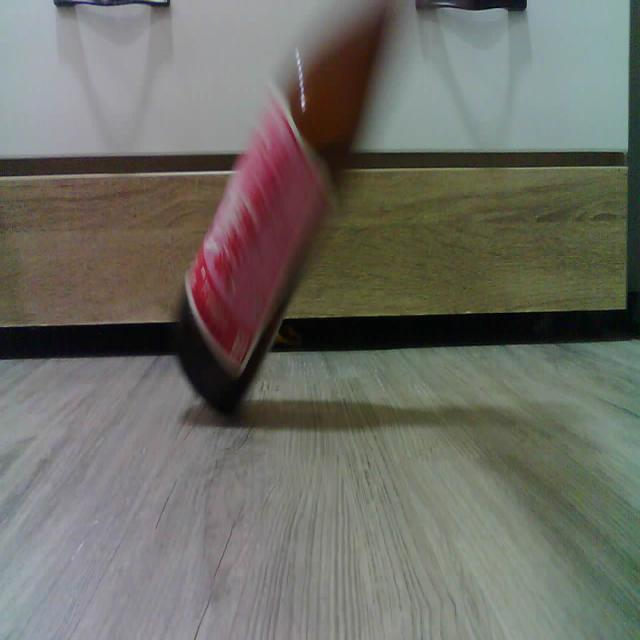bottle: (178, 0, 391, 412)
